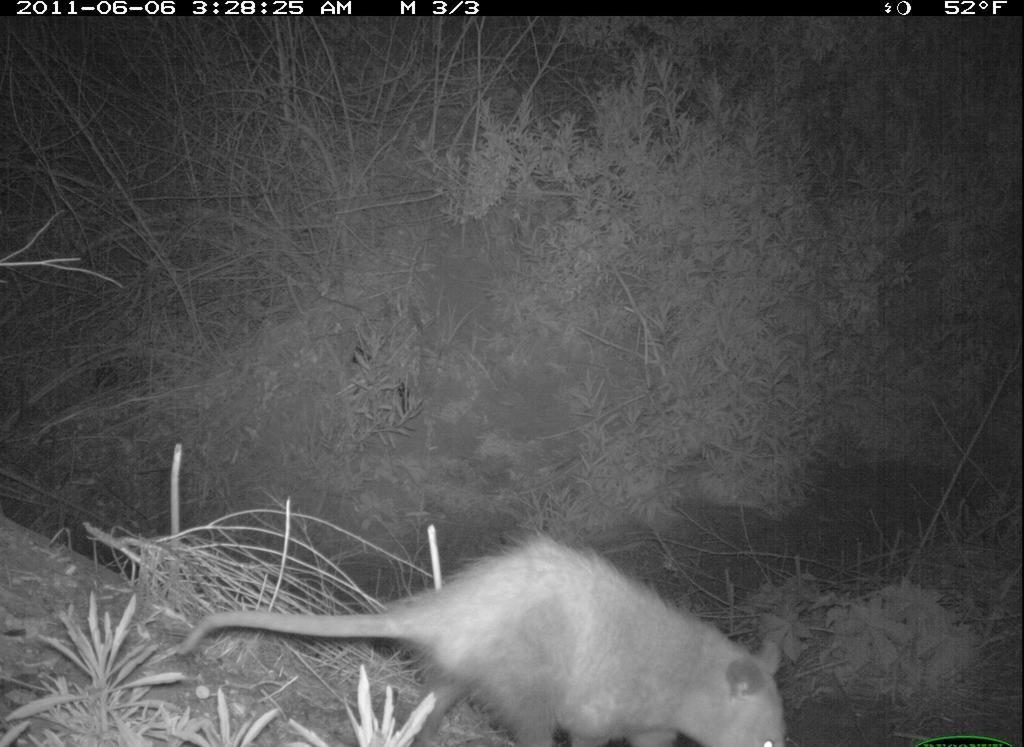opossum: (166, 509, 820, 744)
